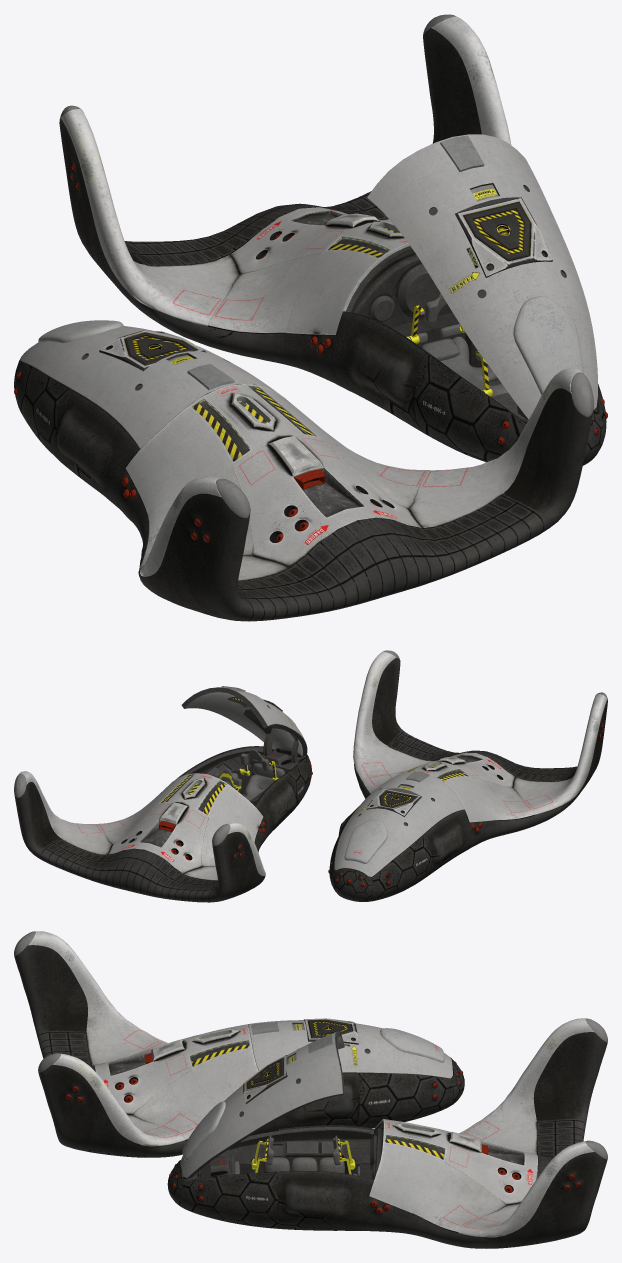
The model's file is SUP_waverider_escape_pod_v3.2.glb.
3 renders of one model, top to bottom at view 1: azimuth 30°, elevation 25°; view 2: azimuth 150°, elevation 25°; view 3: azimuth 270°, elevation 25°, orthographic. The views are drawn at different scales.
Parts seen in each view (by area): view 1: SUP_waverider_escape_pod_v3.2; view 2: SUP_waverider_escape_pod_v3.2; view 3: SUP_waverider_escape_pod_v3.2.
Boxes of the visible parts, <box> form: SUP_waverider_escape_pod_v3.2: <box>14,14,607,621</box>; SUP_waverider_escape_pod_v3.2: <box>14,650,607,902</box>; SUP_waverider_escape_pod_v3.2: <box>14,931,607,1248</box>.
Size of the model in its own units: 27.22 by 10.67 by 30.98.
6 materials, 6 textured.
